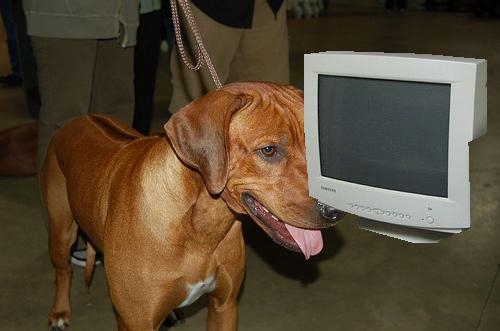tampered: (305, 52, 487, 243)
